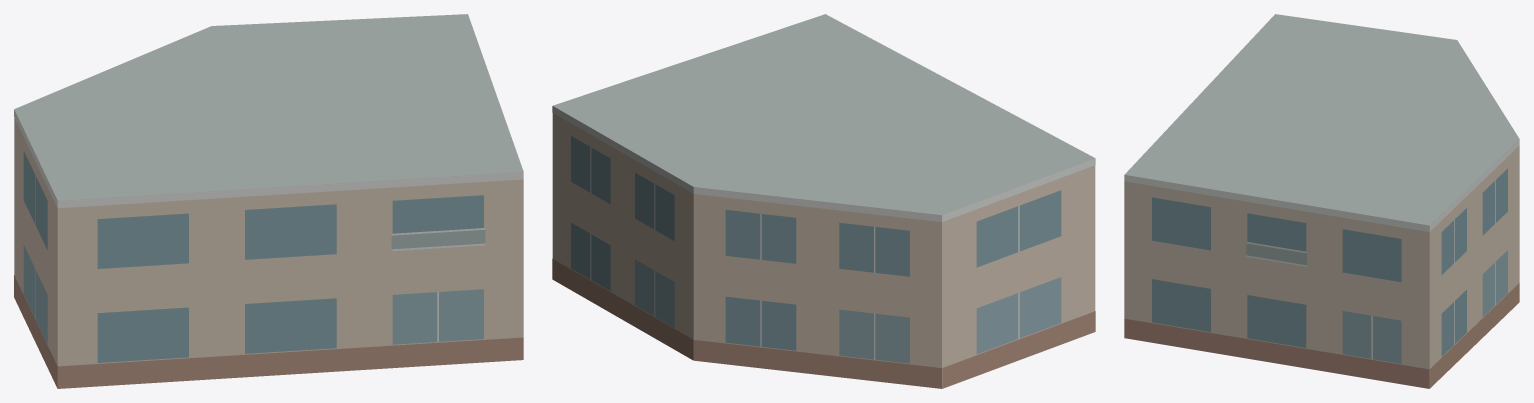
The model's file is survey-upis-32755907.glb.
The picture shows the model from 3 angles, left to right: view 1: azimuth 30°, elevation 25°; view 2: azimuth 150°, elevation 25°; view 3: azimuth 270°, elevation 25°; orthographic projection. The views are drawn at different scales.
Parts seen in each view (by area): view 1: survey-upis-32755907.tmp; view 2: survey-upis-32755907.tmp; view 3: survey-upis-32755907.tmp.
Part boxes in pixels (x1,y1,x2,y2): survey-upis-32755907.tmp: [14, 14, 523, 388]; survey-upis-32755907.tmp: [552, 14, 1095, 388]; survey-upis-32755907.tmp: [1124, 14, 1519, 388].
Size of the model in its own units: 16.95 by 6.1 by 13.39.
